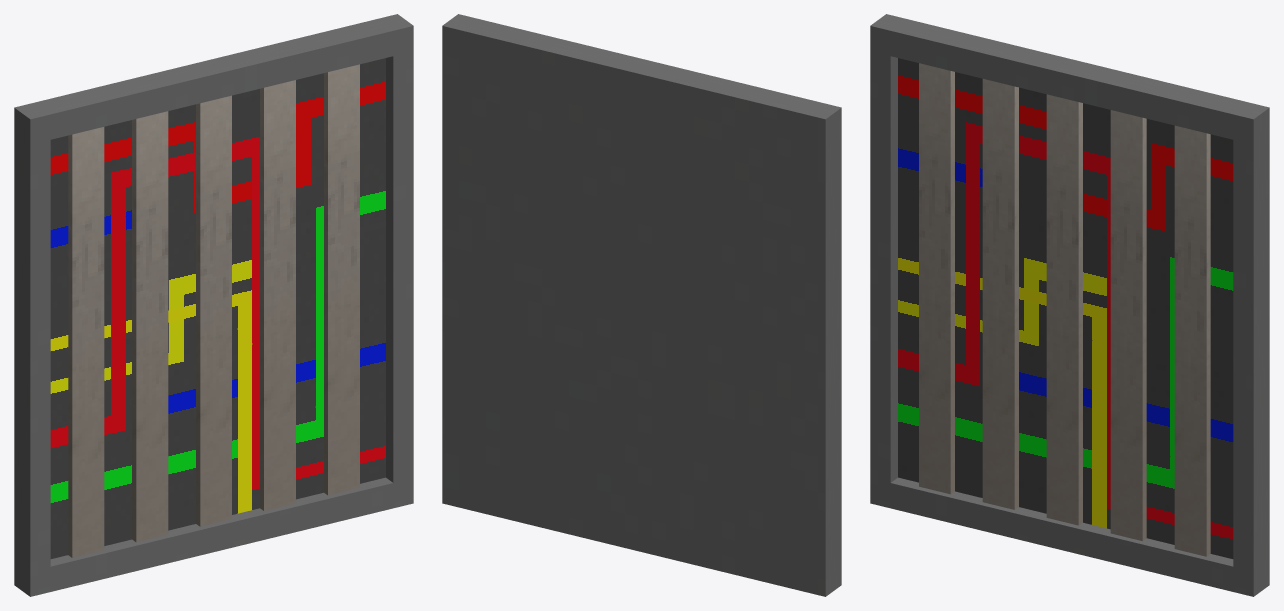
File: Shitok.glb
3 renders of one model, left to right at view 1: azimuth 30°, elevation 25°; view 2: azimuth 150°, elevation 25°; view 3: azimuth 330°, elevation 25°, orthographic.
Visible parts, largest first — view 1: Cube, Cube.002, Cube.001, Cube.004, Cube.003, Cube.005; view 2: Cube; view 3: Cube, Cube.003, Cube.004, Cube.002, Cube.005, Cube.001.
Boxes of the visible parts, x1,y1,x2,y2 form: Cube: (14, 14, 413, 596); Cube.002: (132, 111, 168, 542); Cube.001: (68, 127, 104, 557); Cube.004: (260, 80, 295, 511); Cube.003: (196, 95, 231, 526); Cube.005: (324, 64, 359, 495); Cube: (442, 14, 841, 596); Cube: (870, 14, 1269, 596); Cube.003: (1046, 94, 1082, 525); Cube.004: (1110, 110, 1146, 540); Cube.002: (982, 79, 1018, 509); Cube.005: (1174, 125, 1210, 556); Cube.001: (919, 63, 954, 494).
Bounding box in the file's own units: 3.14 × 3.74 × 0.2295.
Materials: 2 (2 with a texture image).
